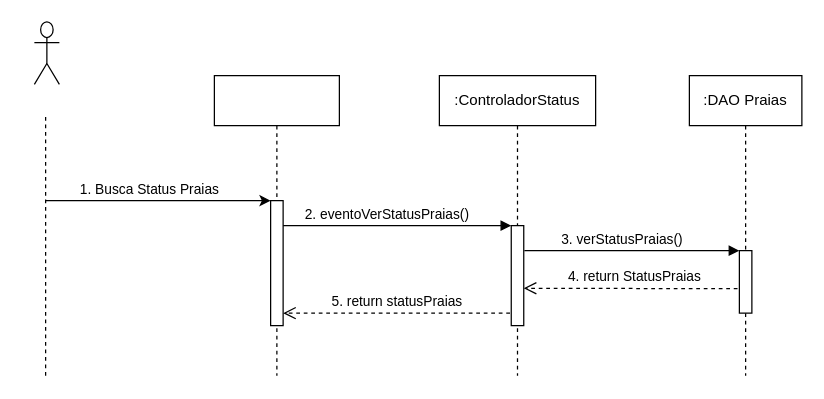
The diagram is 824 pixels wide and 399 high, and some of its shapes have lost their labels. Each missing label, with the centre of its shape:
":TelaStatus" belongs at point (276, 225).
"Usuário" belongs at point (46, 52).
